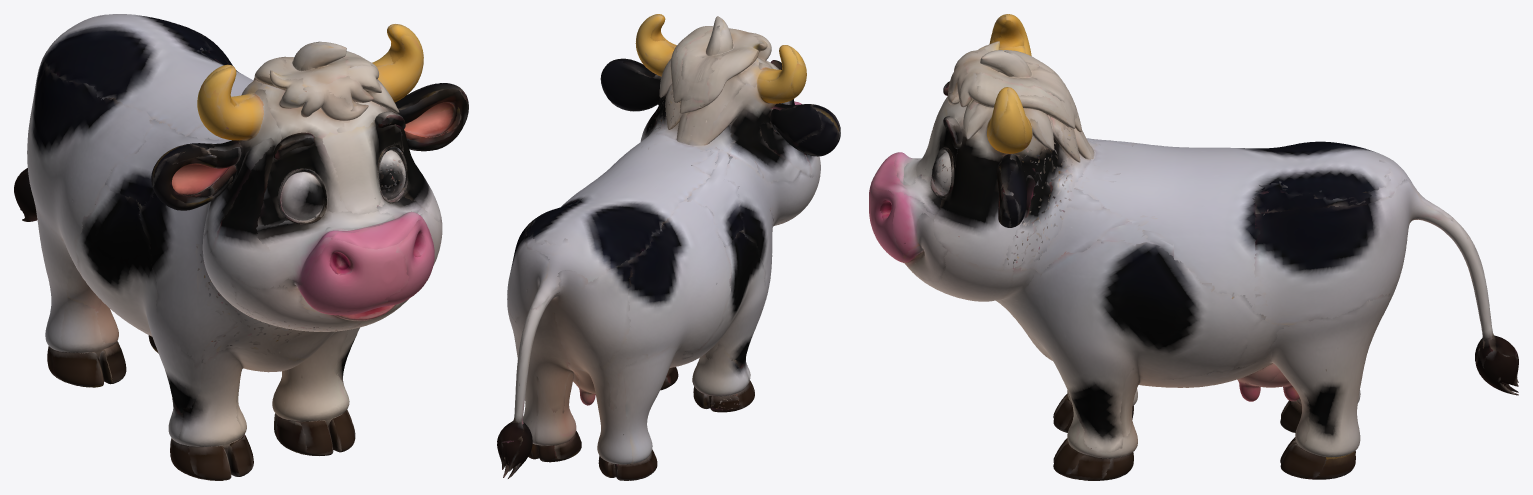
File: hy3_cow_draco.glb
3 renders of one model, left to right at view 1: azimuth 30°, elevation 25°; view 2: azimuth 150°, elevation 25°; view 3: azimuth 270°, elevation 25°, orthographic. The views are drawn at different scales.
Visible parts, largest first — view 1: material; view 2: material; view 3: material.
Boxes of the visible parts, left/top/right/bottom form: material: left=14, top=14, right=468, bottom=480; material: left=497, top=14, right=840, bottom=480; material: left=869, top=14, right=1518, bottom=480.
Size of the model in its own units: 0.5347 by 0.7259 by 1.08.
1 material, 1 textured.
